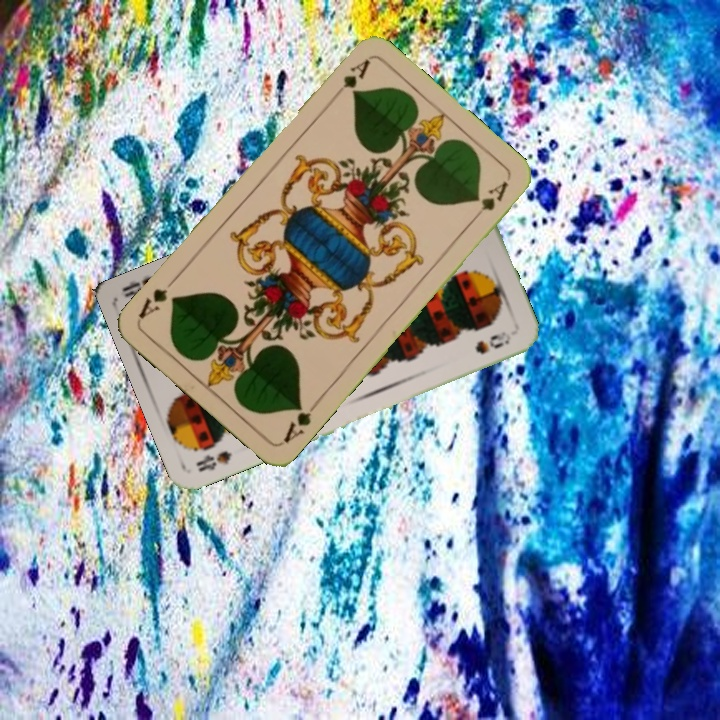GA: (327, 55, 373, 104), (279, 395, 322, 446)
S8: (191, 446, 234, 475)
